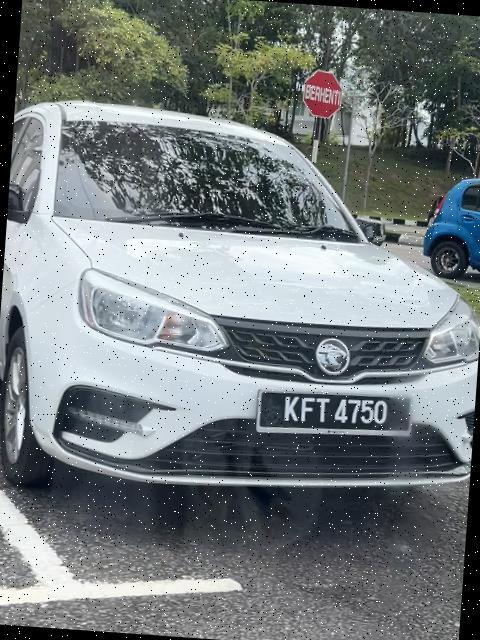KFT4750: (252, 384, 417, 447)
License_Plate: (252, 384, 417, 447)
car: (1, 90, 480, 515)
